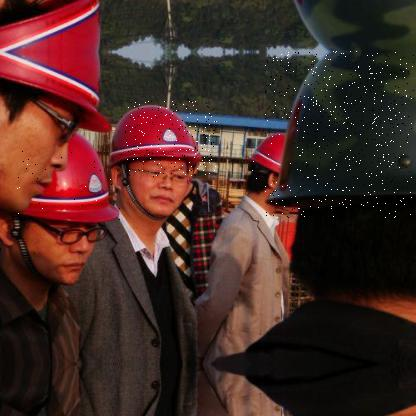safetyhelmet: (265, 51, 415, 219), (12, 128, 126, 230), (0, 52, 121, 138), (107, 99, 218, 178), (249, 127, 298, 183)
